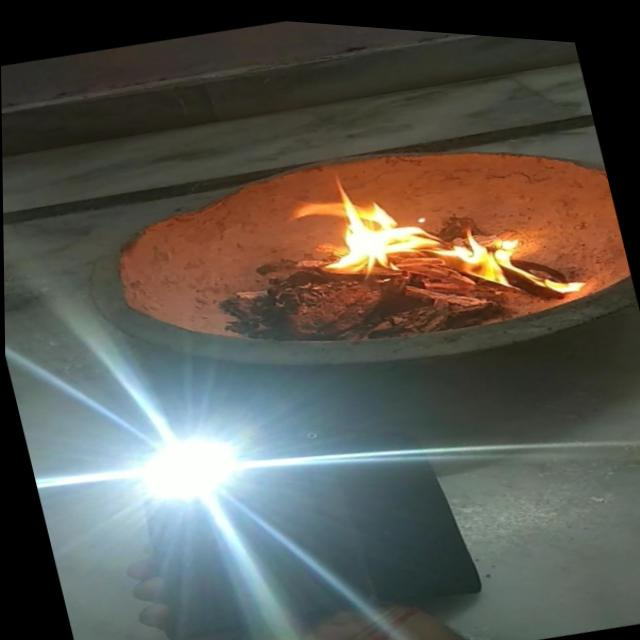fire: (277, 154, 444, 295), (430, 201, 544, 300)
